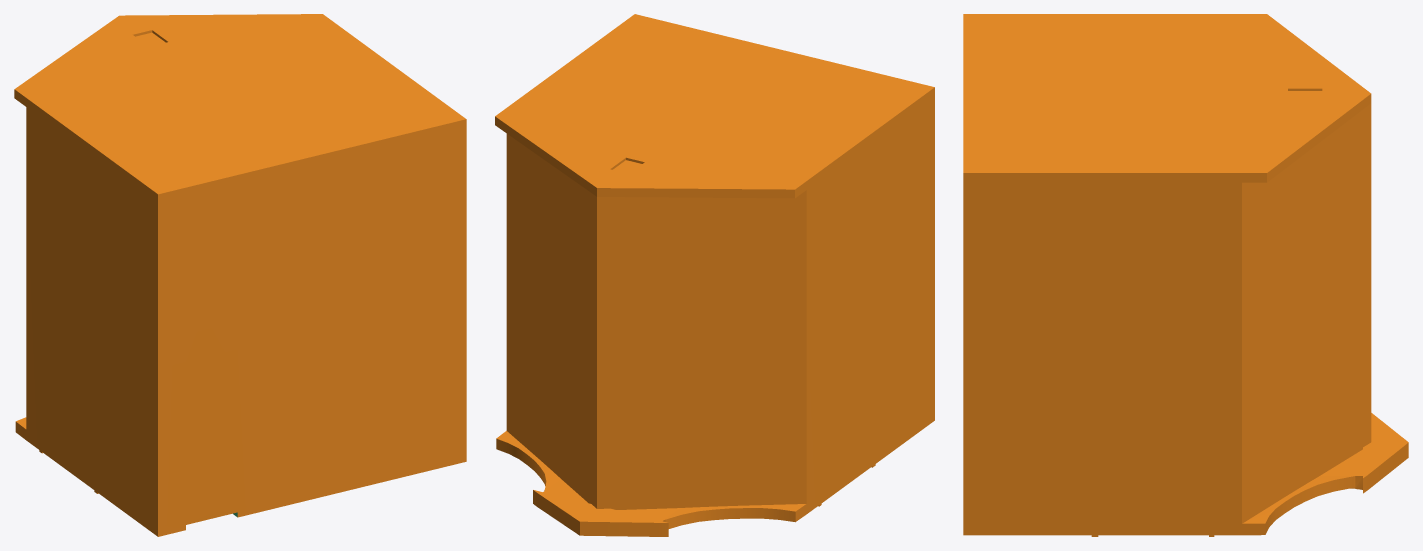
File: Dom_Esterki.fbx
The picture shows the model from 3 angles, left to right: view 1: azimuth 30°, elevation 25°; view 2: azimuth 150°, elevation 25°; view 3: azimuth 270°, elevation 25°; orthographic projection. The views are drawn at different scales.
Parts seen in each view (by area): view 1: Cube_Cube_001; view 2: Cube_Cube_001; view 3: Cube_Cube_001.
Part boxes in pixels (x1=…): Cube_Cube_001: x1=14, y1=14, x2=466, y2=536; Cube_Cube_001: x1=495, y1=14, x2=934, y2=536; Cube_Cube_001: x1=963, y1=14, x2=1408, y2=536.
Bounding box in the file's own units: 34.45 × 36.76 × 40.77.
1 material, 1 textured.
